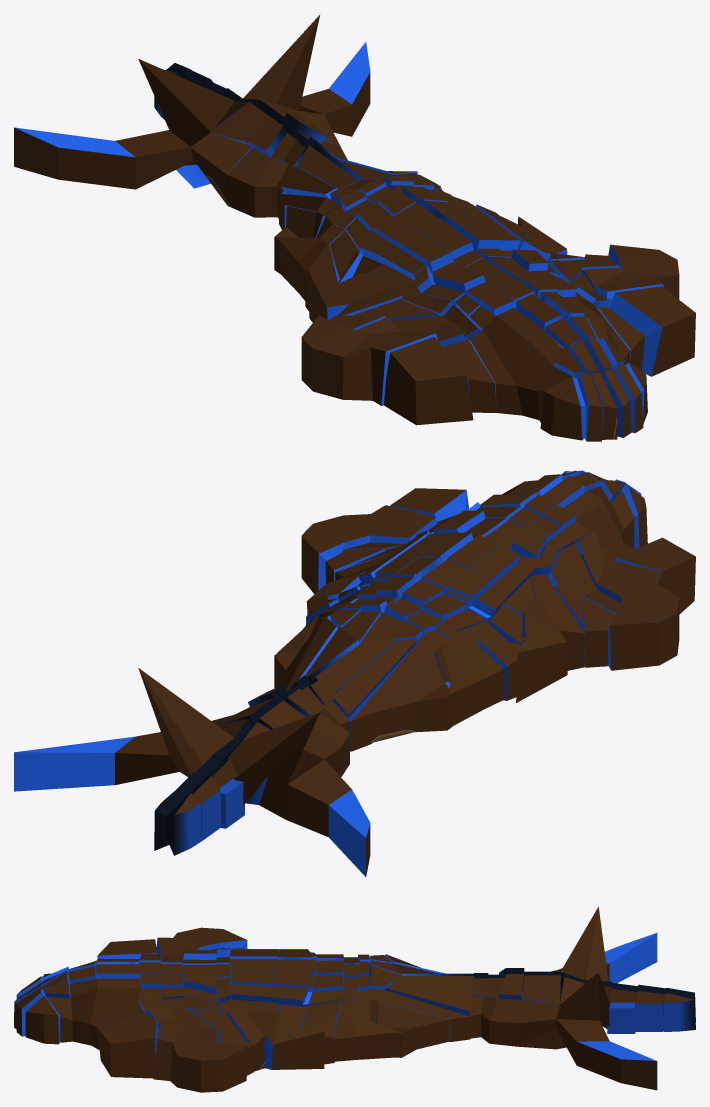
Rendered from Nave.fbx.
The picture shows the model from 3 angles, top to bottom: view 1: azimuth 30°, elevation 25°; view 2: azimuth 150°, elevation 25°; view 3: azimuth 270°, elevation 25°; orthographic projection. The views are drawn at different scales.
Visible parts, largest first — view 1: Nave final; view 2: Nave final; view 3: Nave final.
Boxes of the visible parts, x1,y1,x2,y2 form: Nave final: (14, 14, 695, 441); Nave final: (14, 470, 695, 876); Nave final: (14, 907, 695, 1092).
Size of the model in its own units: 15.5 by 4.99 by 33.6.
